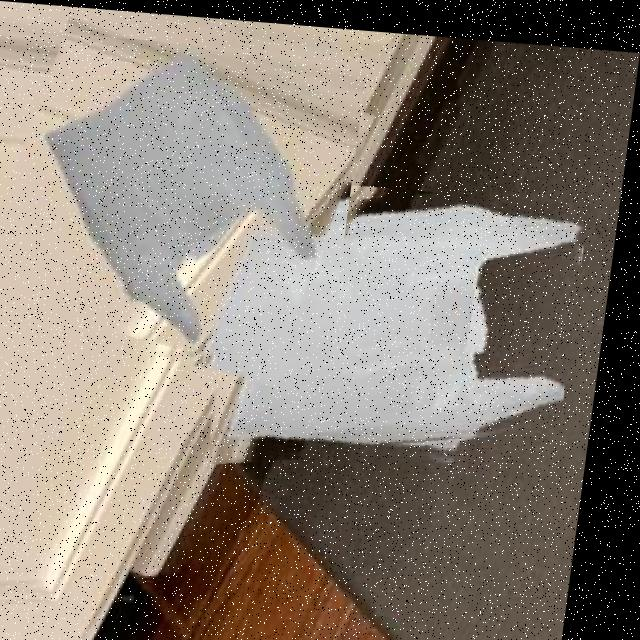litter: (0, 28, 370, 372), (196, 169, 594, 470)
